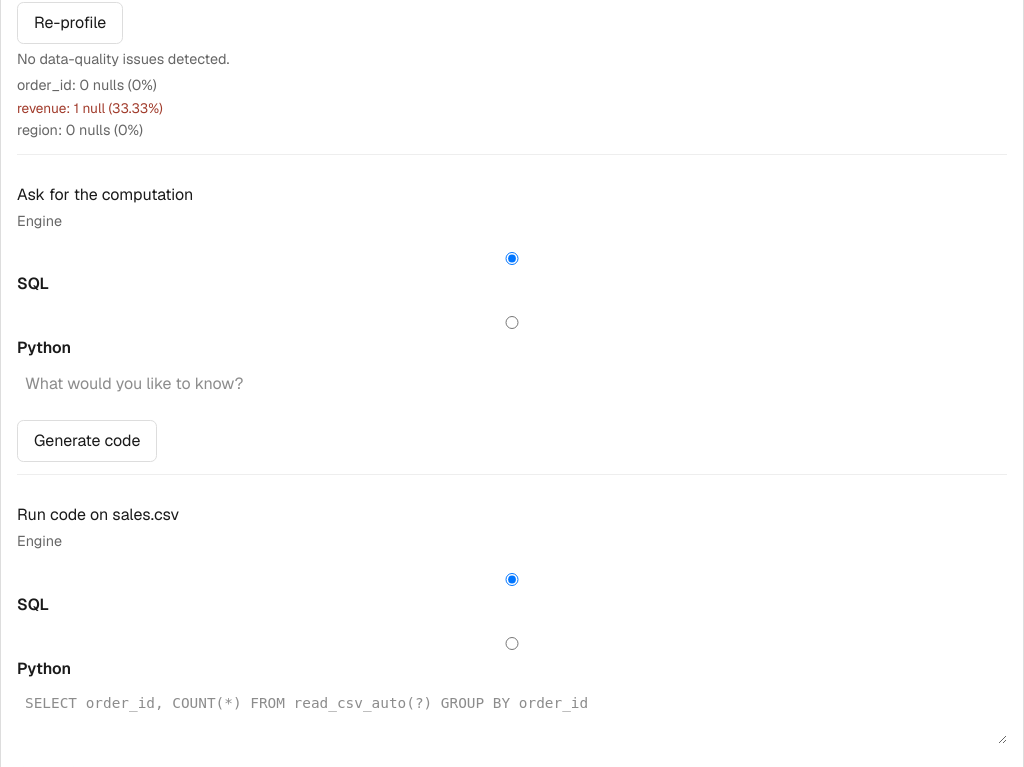
CaseWorkspace › reloads the case after a run lands so the runs panel picks it up
This screenshot has width=1024, height=767.
(page scrolled)
Expected: the heading "Ask for the computation" is shown, [17,184,193,205]
Type "revenue per region" into the field named "question for code generation". click: (512, 384)
box: [17,364,1007,404]
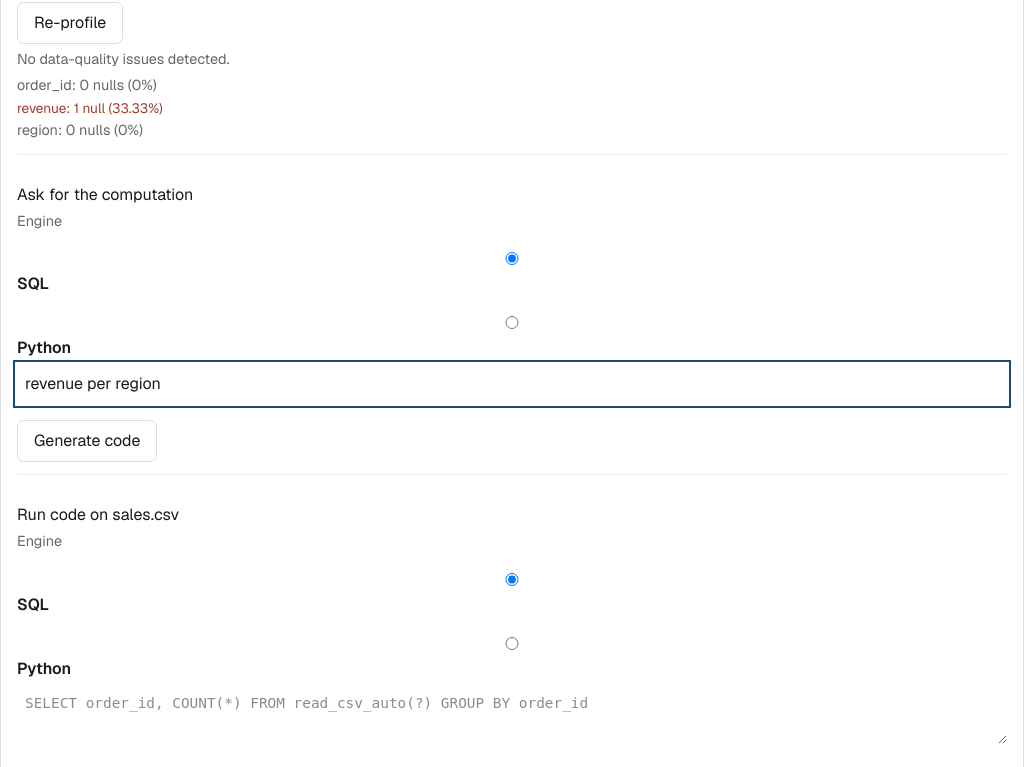
Click the button "Generate code". click: (87, 441)
box: [17,420,158,462]
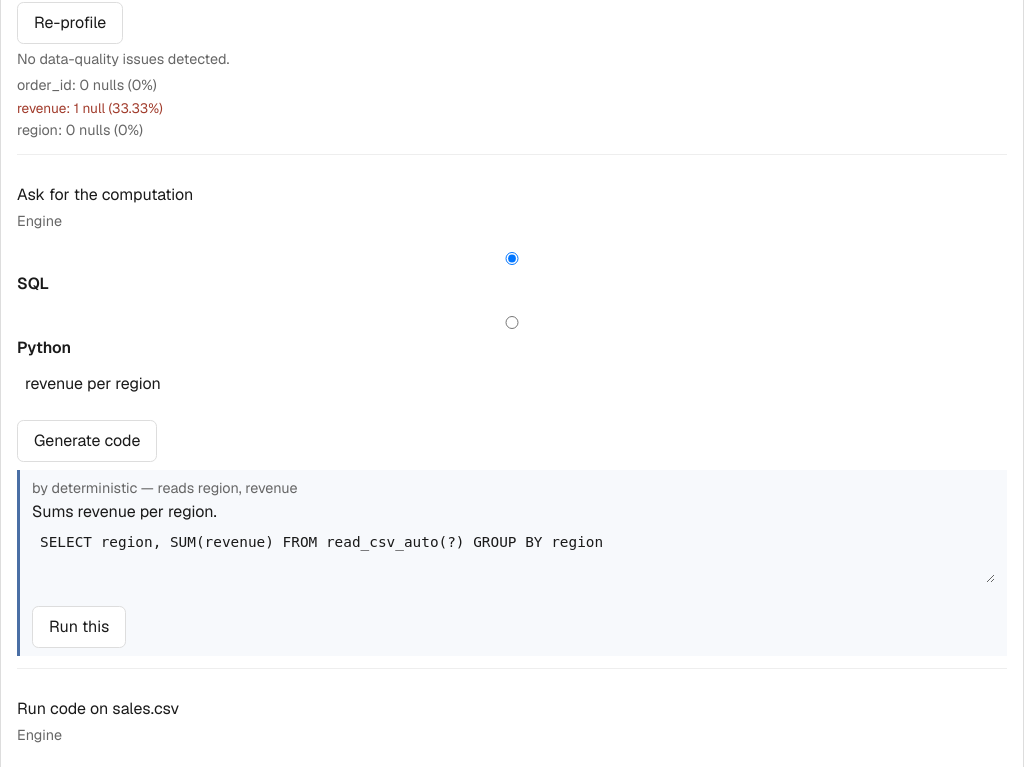
Now the text "Sums revenue per region." is shown, box [32,501,217,522]
Click the button "Run this". click: (79, 627)
box: [32,606,126,648]
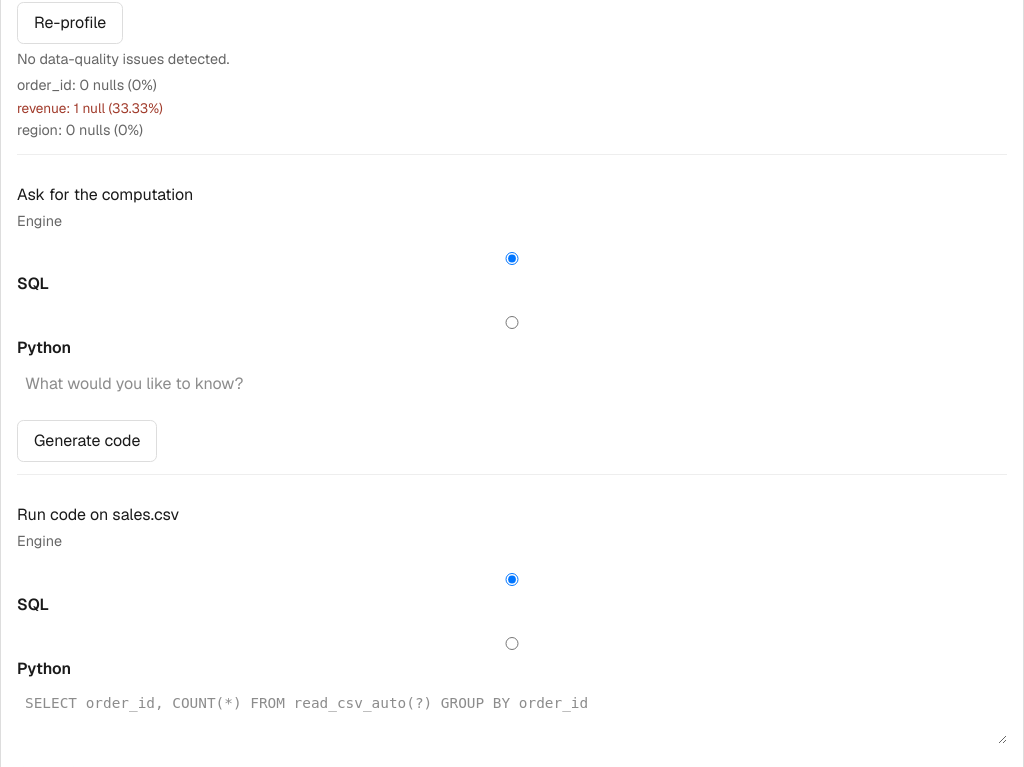
Now the button "Run this" is gone
